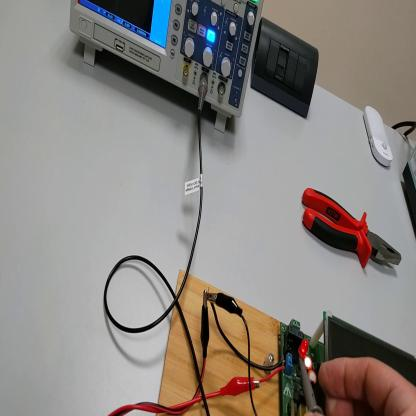hand: (319, 356, 416, 416)
low voltage board: (210, 282, 415, 413)
oscilloscope: (70, 1, 265, 132)
oscilloscope probe tip: (300, 359, 324, 414)
pliers: (301, 187, 404, 270)
welder station: (404, 137, 416, 239)
working area: (156, 269, 283, 415)
